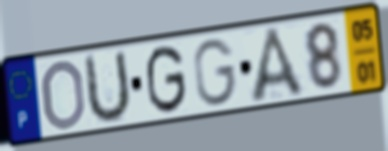8: (301, 20, 346, 92)
A: (248, 24, 309, 106)
G: (191, 36, 240, 109), (145, 42, 189, 117)
O: (40, 57, 88, 133)
U: (83, 47, 133, 128)
